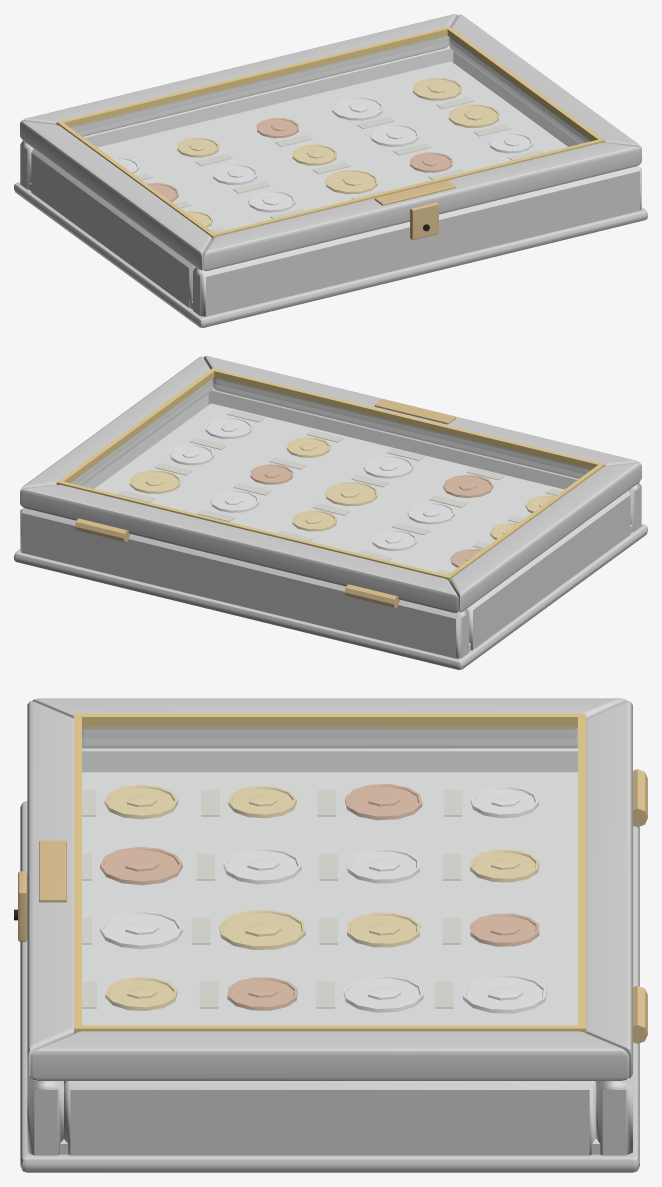
Rendered from SM_Loot_CoinCollection.fbx.
3 views of the same model, one above another, from view 1: azimuth 30°, elevation 25°; view 2: azimuth 150°, elevation 25°; view 3: azimuth 270°, elevation 25° (orthographic). The views are drawn at different scales.
Parts seen in each view (by area): view 1: SM_Loot_CoinCollection_1; view 2: SM_Loot_CoinCollection_1; view 3: SM_Loot_CoinCollection_1.
Boxes of the visible parts, <box> form: SM_Loot_CoinCollection_1: <box>14,14,647,327</box>; SM_Loot_CoinCollection_1: <box>14,356,647,669</box>; SM_Loot_CoinCollection_1: <box>14,698,647,1172</box>.
Bounding box in the file's own units: 36.6 × 5.95 × 27.22.
